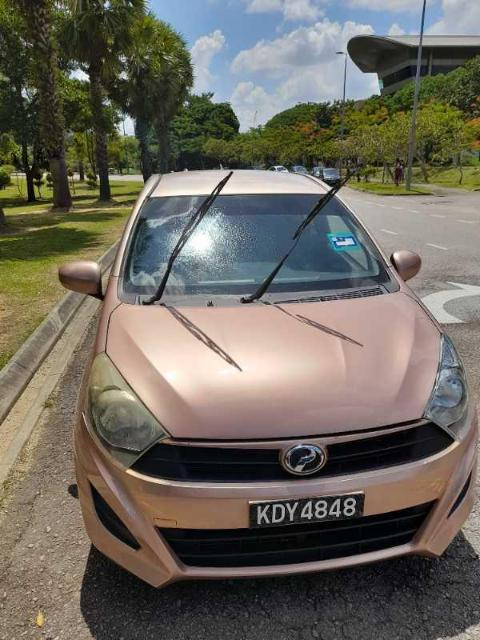License_Plate: (249, 491, 366, 530)
car: (59, 168, 479, 591)
